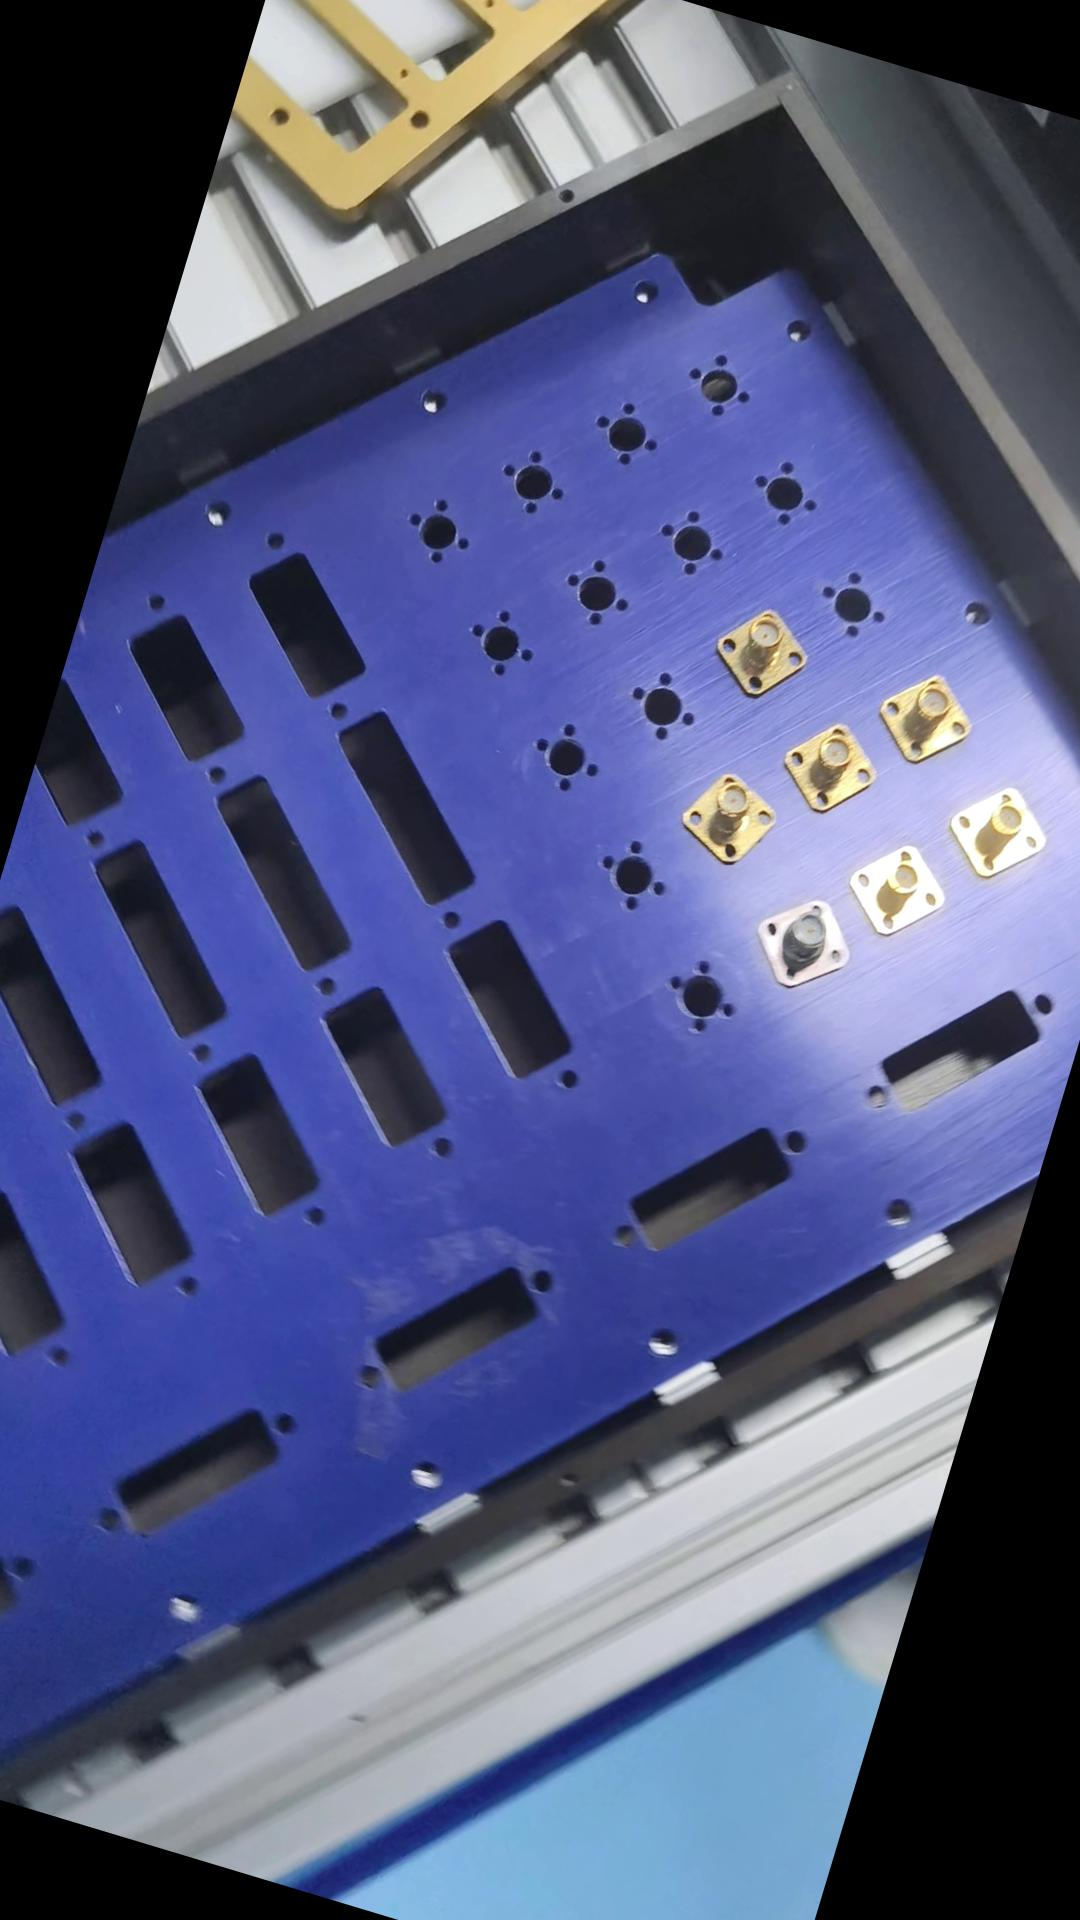SMA: (936, 770, 1059, 890), (742, 878, 862, 994), (767, 705, 882, 825), (833, 829, 953, 943), (868, 661, 982, 774), (669, 760, 783, 872), (705, 595, 816, 703)
